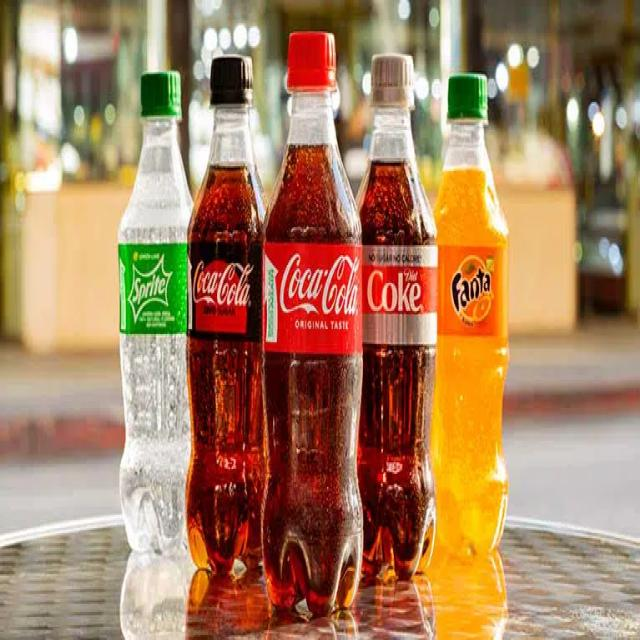plastic: (263, 24, 361, 612), (188, 48, 268, 577), (360, 51, 436, 581), (435, 66, 509, 560), (119, 65, 191, 552)
